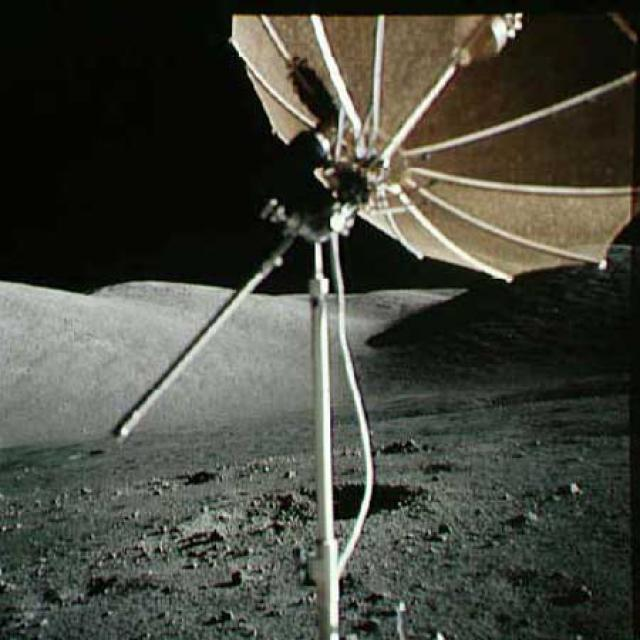artifact: (118, 0, 636, 444), (288, 444, 392, 638)
crater: (175, 483, 441, 529)
